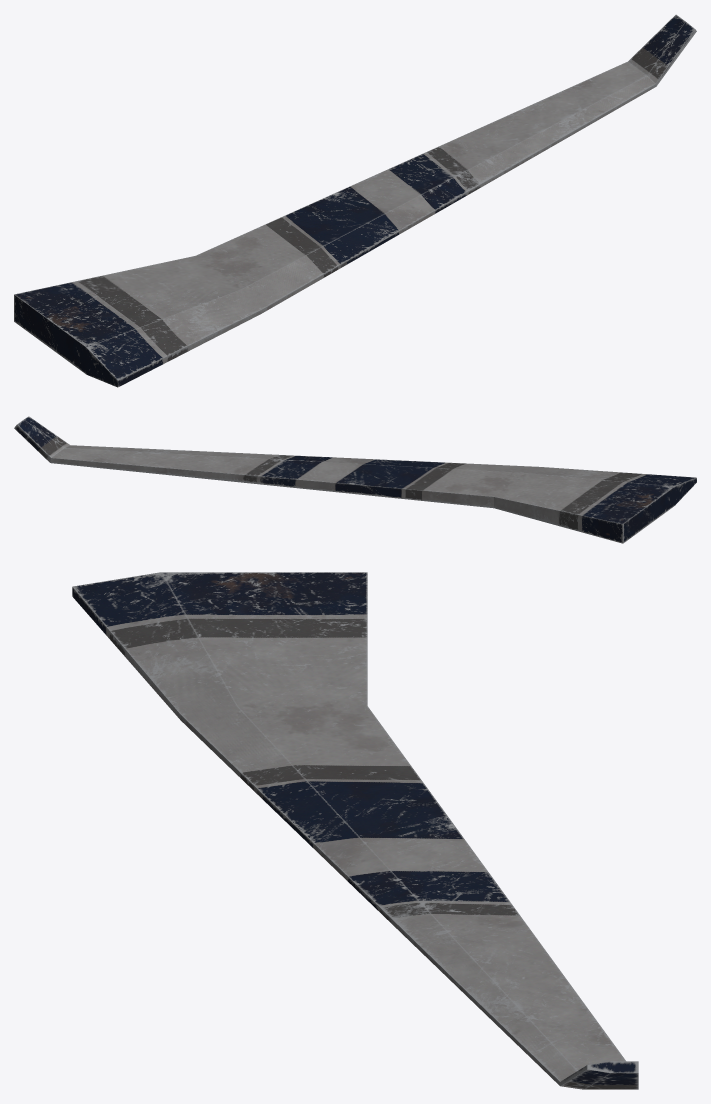
The model's file is wing_l_4.L.fbx.
3 renders of one model, top to bottom at view 1: azimuth 30°, elevation 25°; view 2: azimuth 150°, elevation 25°; view 3: azimuth 270°, elevation 25°, orthographic. The views are drawn at different scales.
Parts seen in each view (by area): view 1: wing_l_4.L; view 2: wing_l_4.L; view 3: wing_l_4.L.
Boxes of the visible parts, x1,y1,x2,y2 form: wing_l_4.L: [14, 14, 696, 387]; wing_l_4.L: [14, 416, 696, 543]; wing_l_4.L: [72, 572, 638, 1089].
Size of the model in its own units: 92.25 by 6.09 by 41.81.
